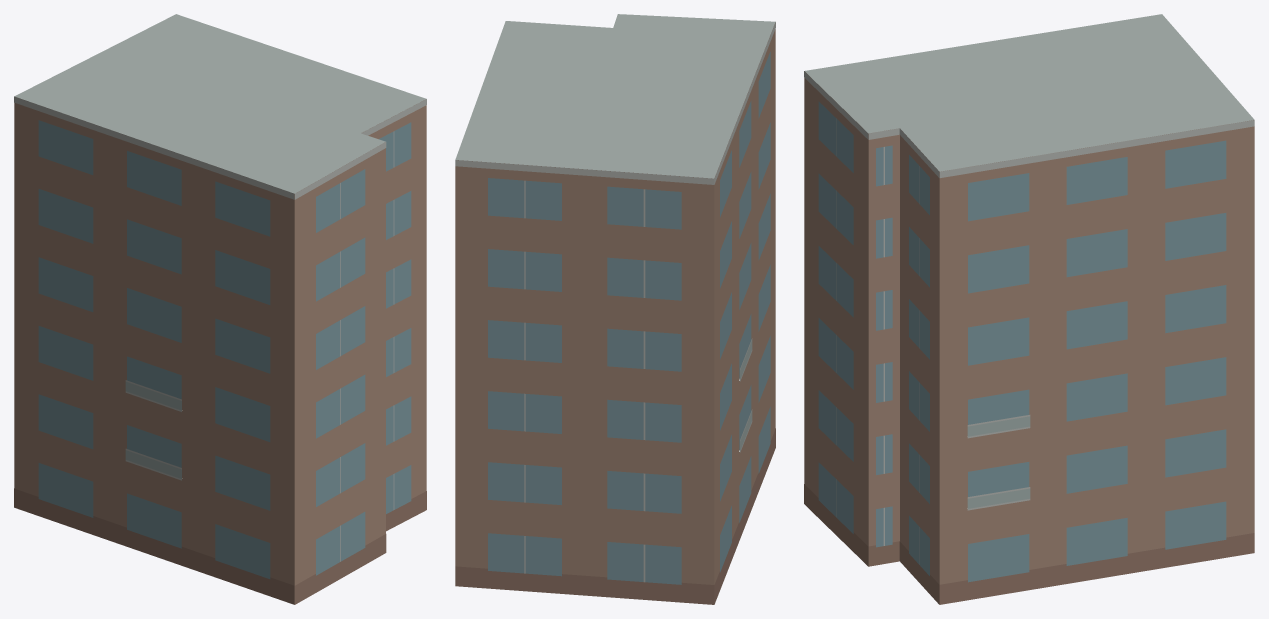
Rendered from survey-upis-32884280.glb.
The picture shows the model from 3 angles, left to right: view 1: azimuth 30°, elevation 25°; view 2: azimuth 150°, elevation 25°; view 3: azimuth 270°, elevation 25°; orthographic projection. The views are drawn at different scales.
Parts seen in each view (by area): view 1: survey-upis-32884280.tmp; view 2: survey-upis-32884280.tmp; view 3: survey-upis-32884280.tmp.
Boxes of the visible parts, x1,y1,x2,y2 form: survey-upis-32884280.tmp: (14,14,426,604); survey-upis-32884280.tmp: (455,14,775,604); survey-upis-32884280.tmp: (804,14,1254,604).
Size of the model in its own units: 12.66 by 16.2 by 15.28.
